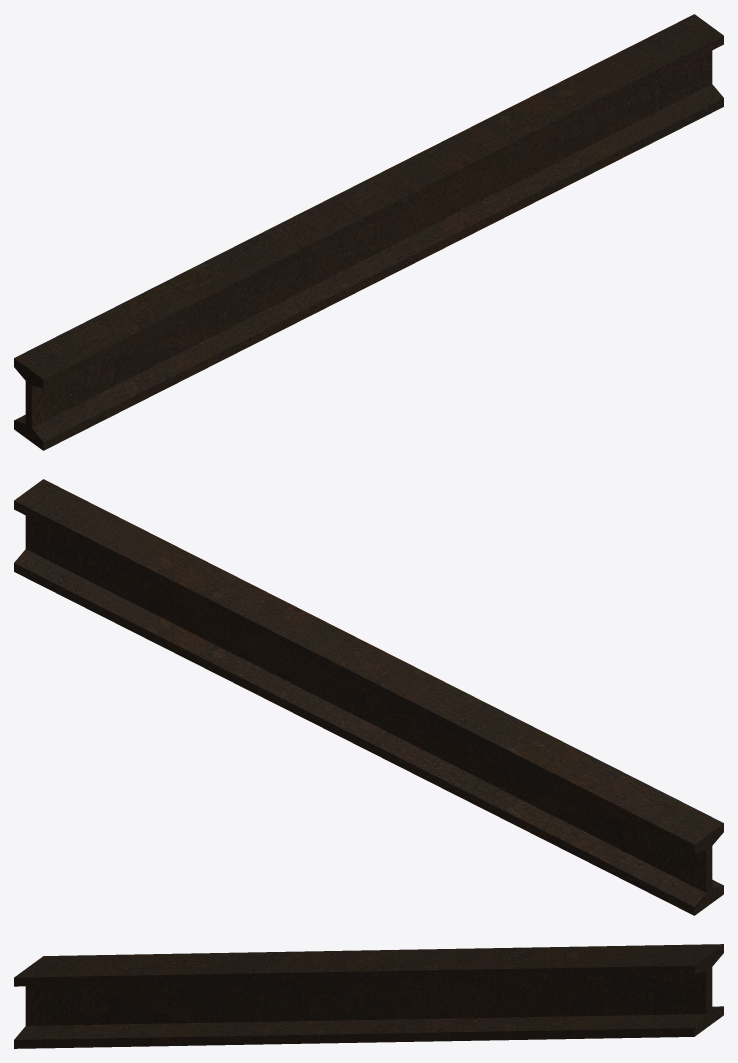
File: beam_hc_horizonatal_2.glb
The picture shows the model from 3 angles, top to bottom: view 1: azimuth 30°, elevation 25°; view 2: azimuth 150°, elevation 25°; view 3: azimuth 330°, elevation 25°; orthographic projection.
Visible parts, largest first — view 1: beam_hc_horizonatal_2; view 2: beam_hc_horizonatal_2; view 3: beam_hc_horizonatal_2.
Boxes of the visible parts, left/top/right/bottom form: beam_hc_horizonatal_2: left=14, top=14, right=723, bottom=450; beam_hc_horizonatal_2: left=14, top=479, right=723, bottom=915; beam_hc_horizonatal_2: left=14, top=944, right=723, bottom=1048.
Size of the model in its own units: 4 by 1.4 by 0.3.
Materials: 1 (1 with a texture image).
